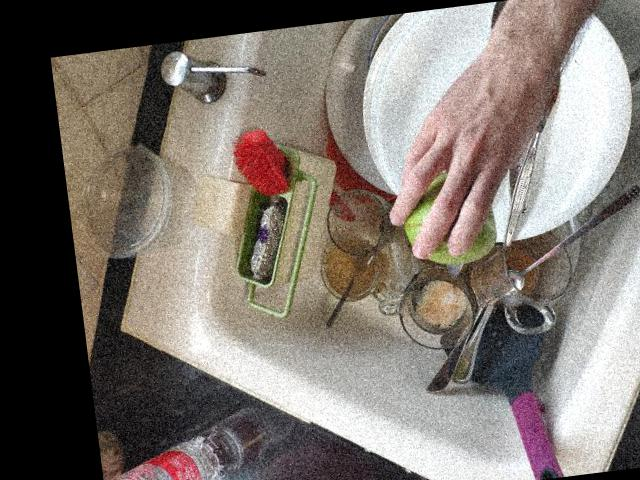apple: (397, 163, 504, 270)
